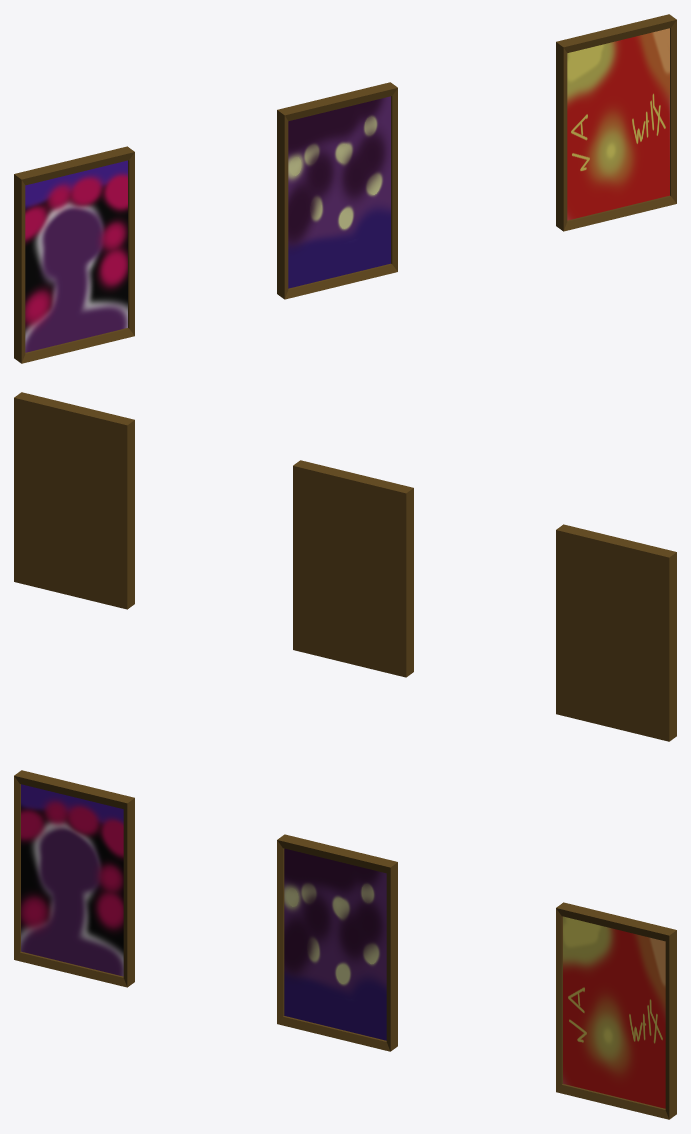
The model's file is Cuadros.fbx.
3 views of the same model, one above another, from view 1: azimuth 30°, elevation 25°; view 2: azimuth 150°, elevation 25°; view 3: azimuth 330°, elevation 25° (orthographic).
Parts seen in each view (by area): view 1: Cuadro1, Cuadro2.001, Cuadro2; view 2: Cuadro1, Cuadro2.001, Cuadro2; view 3: Cuadro1, Cuadro2.001, Cuadro2.
Part boxes in pixels (x1=…): Cuadro1: x1=14, y1=146, x2=134, y2=363; Cuadro2.001: x1=556, y1=14, x2=676, y2=231; Cuadro2: x1=277, y1=82, x2=397, y2=299; Cuadro1: x1=556, y1=524, x2=676, y2=741; Cuadro2.001: x1=14, y1=392, x2=134, y2=609; Cuadro2: x1=293, y1=460, x2=413, y2=677; Cuadro1: x1=14, y1=770, x2=134, y2=987; Cuadro2.001: x1=556, y1=902, x2=676, y2=1119; Cuadro2: x1=277, y1=834, x2=397, y2=1051.
Size of the model in its own units: 961 by 258 by 19.38.
6 materials, 3 textured.
